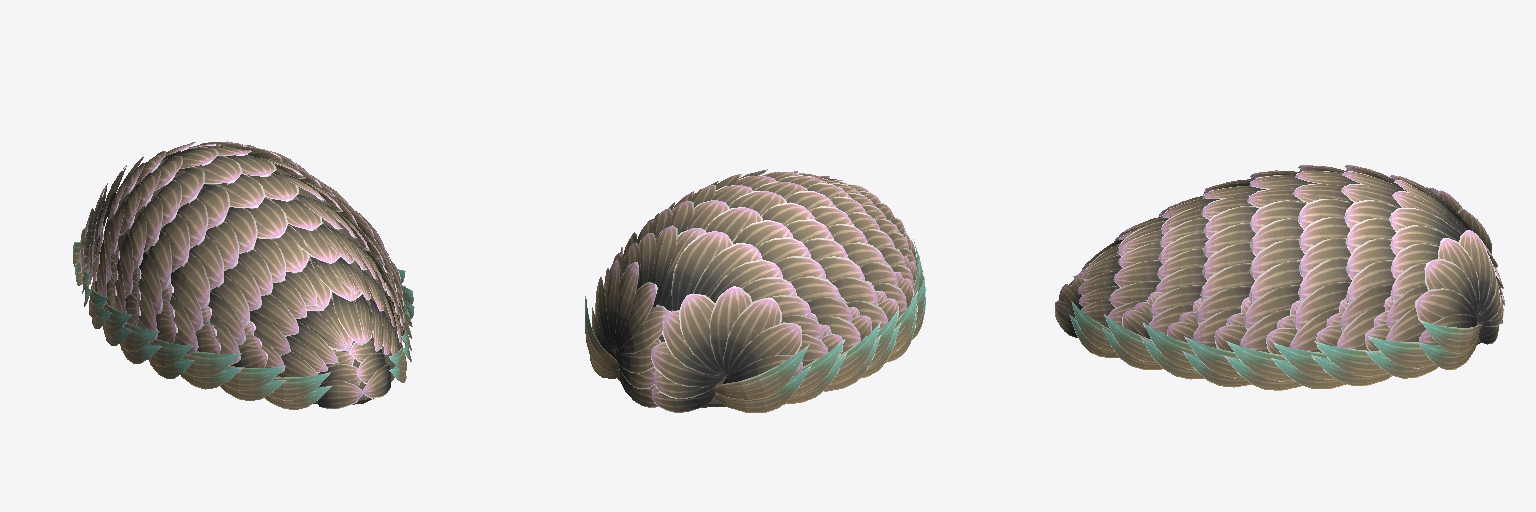
3 views of the same model, side by side, from view 1: azimuth 30°, elevation 25°; view 2: azimuth 150°, elevation 25°; view 3: azimuth 270°, elevation 25° (orthographic).
Parts seen in each view (by area): view 1: wiwaxia1; view 2: wiwaxia1; view 3: wiwaxia1.
Boxes of the visible parts, x1,y1,x2,y2 form: wiwaxia1: [73, 141, 414, 409]; wiwaxia1: [585, 169, 926, 412]; wiwaxia1: [1055, 165, 1504, 390].
Bounding box in the file's own units: 2.67 × 1.46 × 3.98.
1 materials, 1 textured.